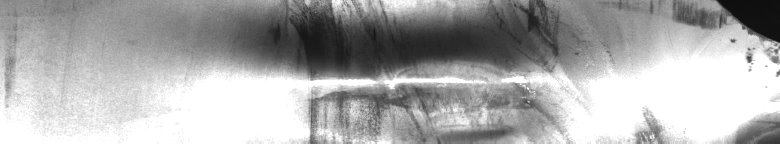ke: (277, 4, 776, 136)
